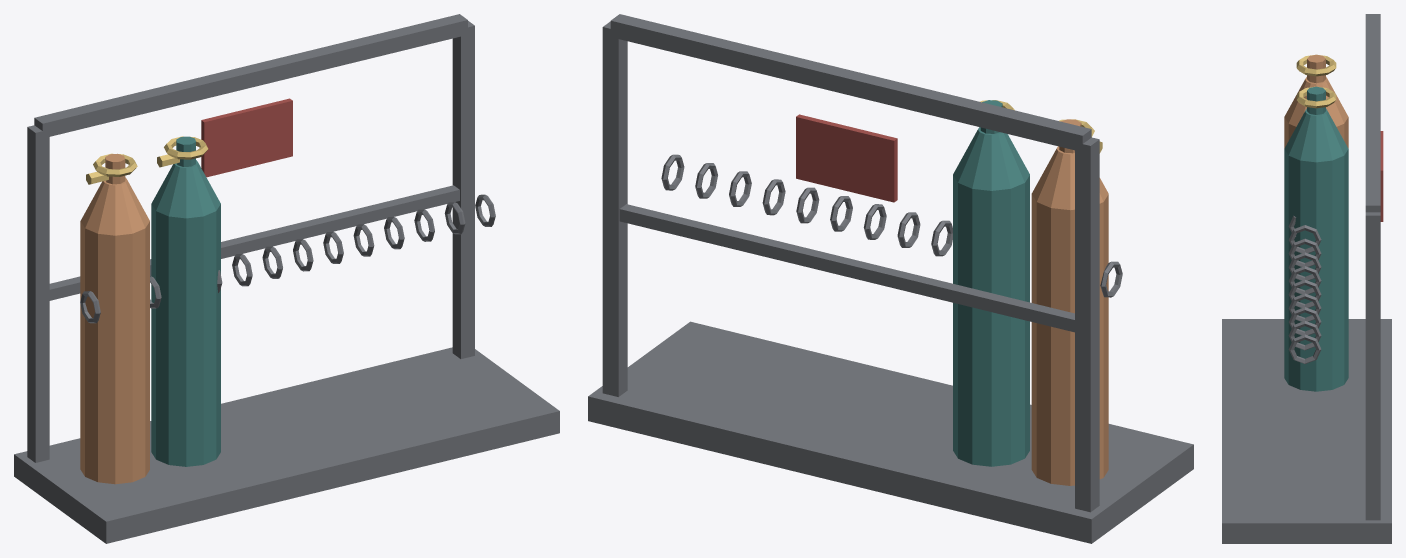
The model's file is steampunk-airship-dock-and-workshop-gas-cylinder-rack--31582661__36066.glb.
3 renders of one model, left to right at view 1: azimuth 30°, elevation 25°; view 2: azimuth 150°, elevation 25°; view 3: azimuth 270°, elevation 25°, orthographic. The views are drawn at different scales.
Visible parts, largest first — view 1: gas-cylinder-rack-part; view 2: gas-cylinder-rack-part; view 3: gas-cylinder-rack-part.
Part boxes in pixels (bbox=[...]): gas-cylinder-rack-part: bbox=[14, 14, 559, 543]; gas-cylinder-rack-part: bbox=[588, 14, 1193, 543]; gas-cylinder-rack-part: bbox=[1222, 14, 1391, 543].
Size of the model in its own units: 2.56 by 1.94 by 0.9001.
